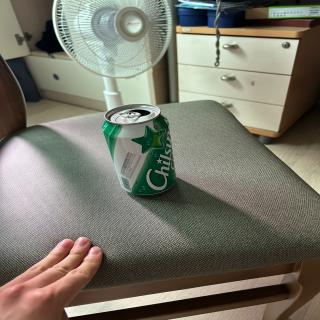chilsung: (98, 100, 179, 200)
